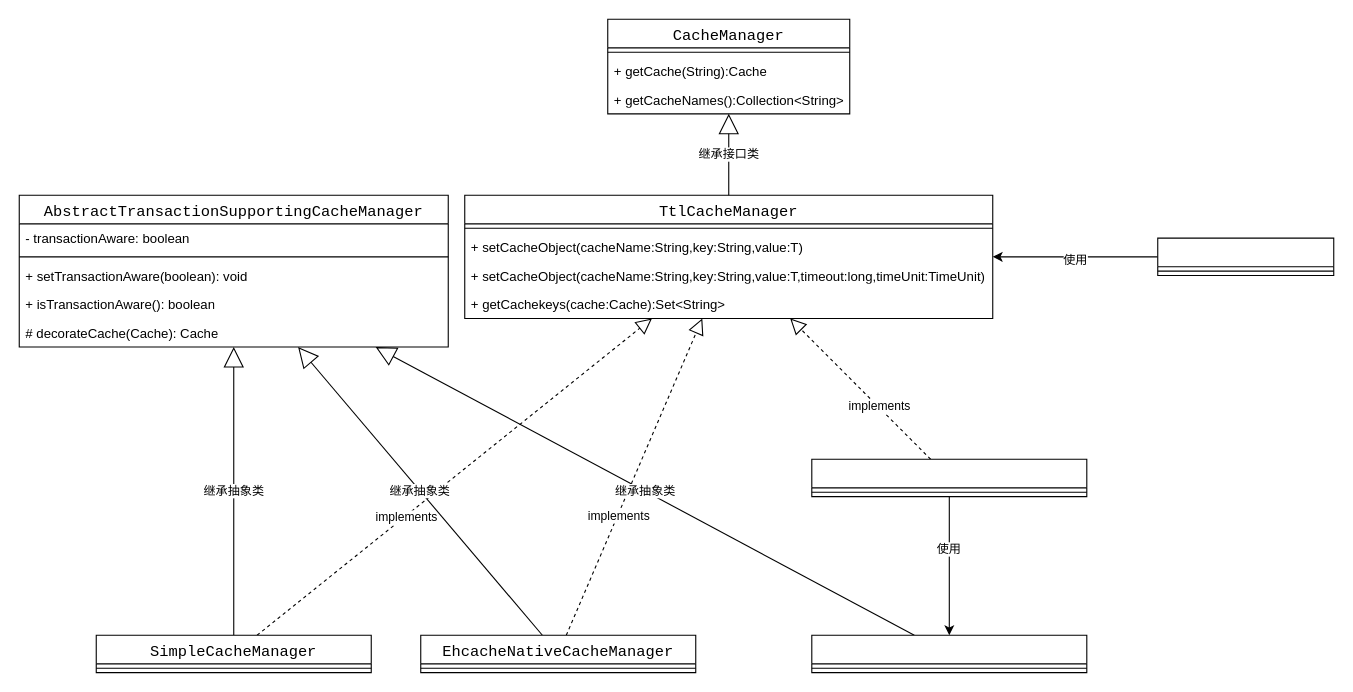
This 1353x692 diagram has some shape labels left out. Here are the shapes that lost their labels. From the top down, the centre of each, then its label:
At [1245,256]: "CacheUtils".
At [949,477]: "RedisCacheManagerProxy".
At [949,653]: "RedisCacheManager".
